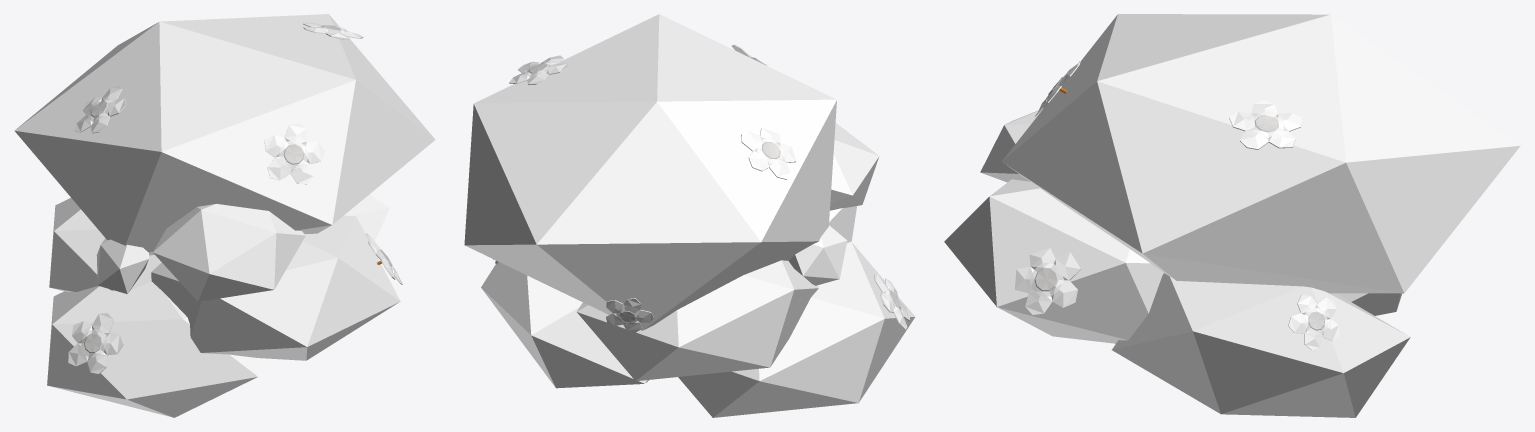
Rendered from arbustoPrincipal.fbx.
3 renders of one model, left to right at view 1: azimuth 30°, elevation 25°; view 2: azimuth 150°, elevation 25°; view 3: azimuth 270°, elevation 25°, orthographic. The views are drawn at different scales.
Visible parts, largest first — view 1: arbustoPrincipal; view 2: arbustoPrincipal; view 3: arbustoPrincipal.
Boxes of the visible parts, x1,y1,x2,y2 form: arbustoPrincipal: (14,14,435,417); arbustoPrincipal: (464,14,915,417); arbustoPrincipal: (944,14,1520,417).
Bounding box in the file's own units: 442 × 369 × 514.
